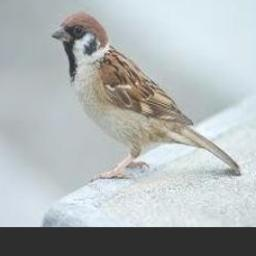Sparrow: (53, 11, 240, 179)
